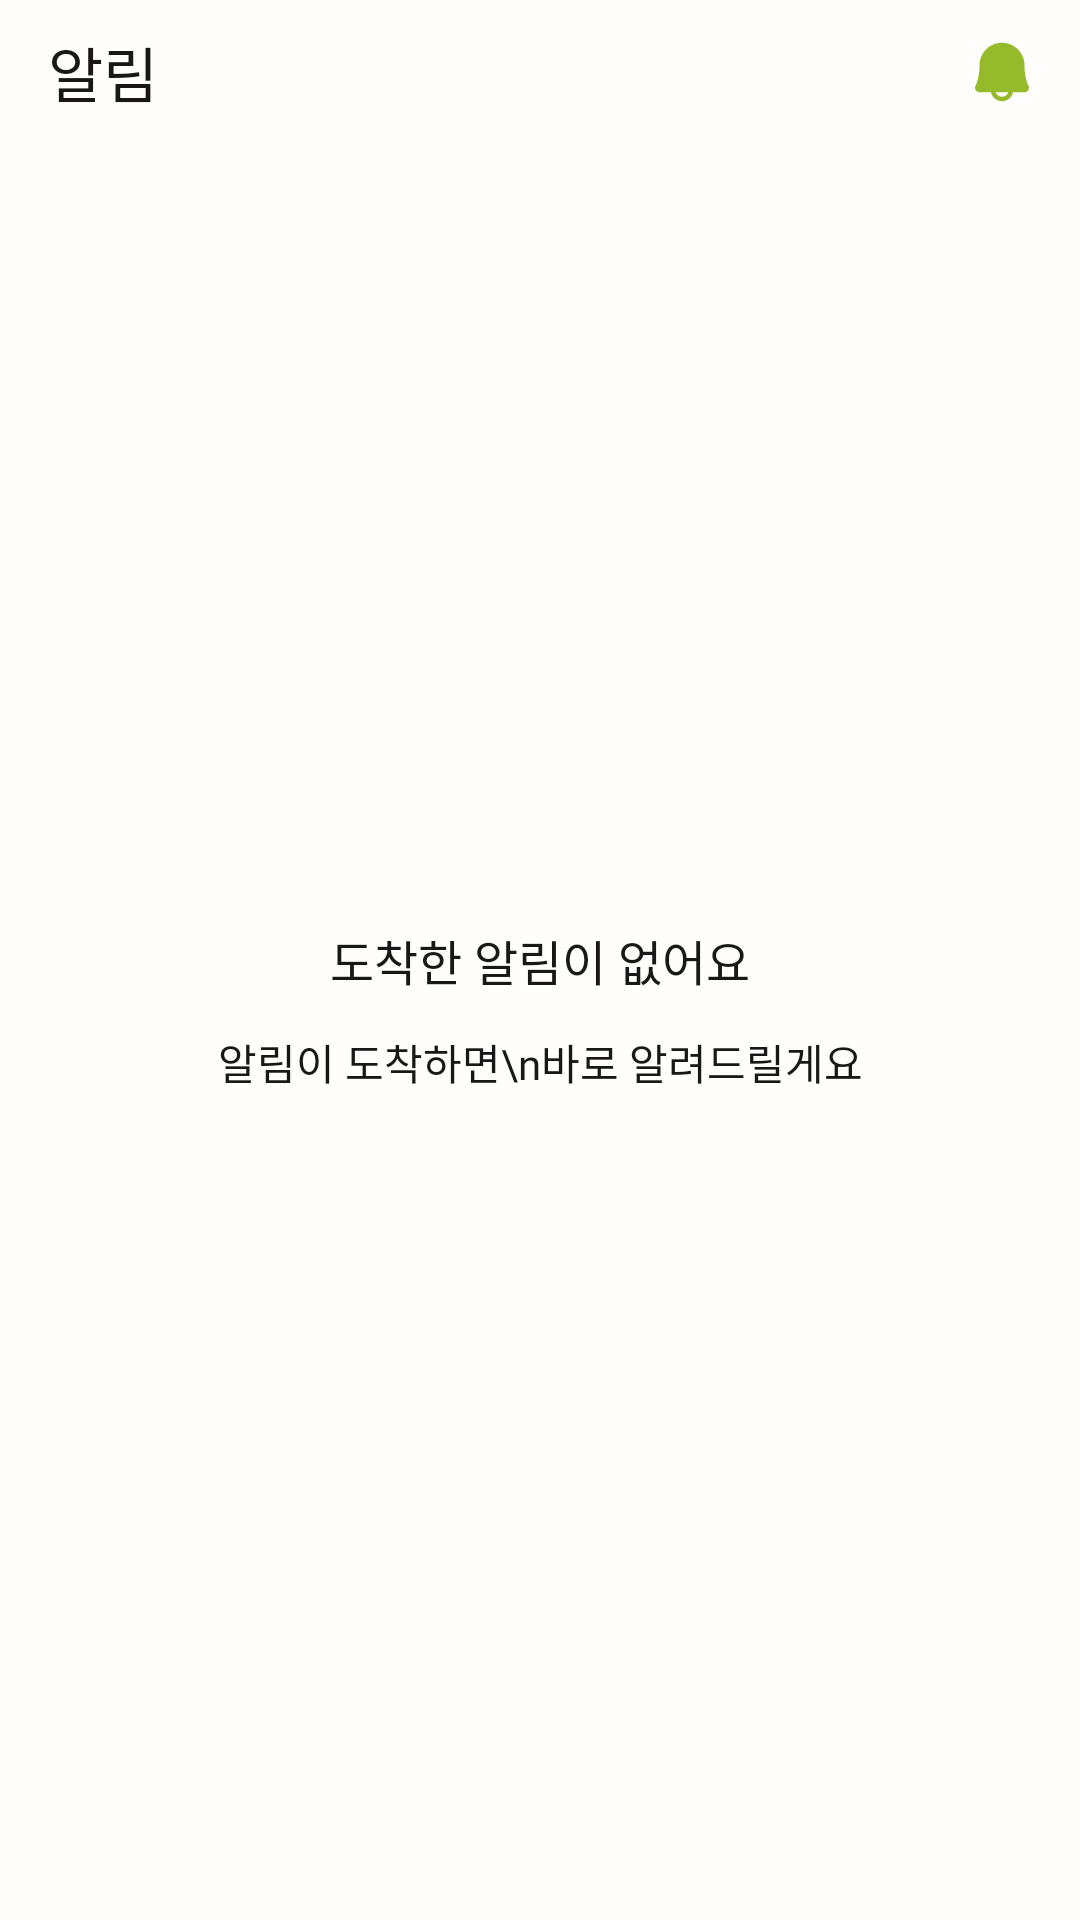

Where icons sit on this 1080×1920 app screen, as (x1, y1, x2, y2):
notification on: (975, 42, 1029, 102)
